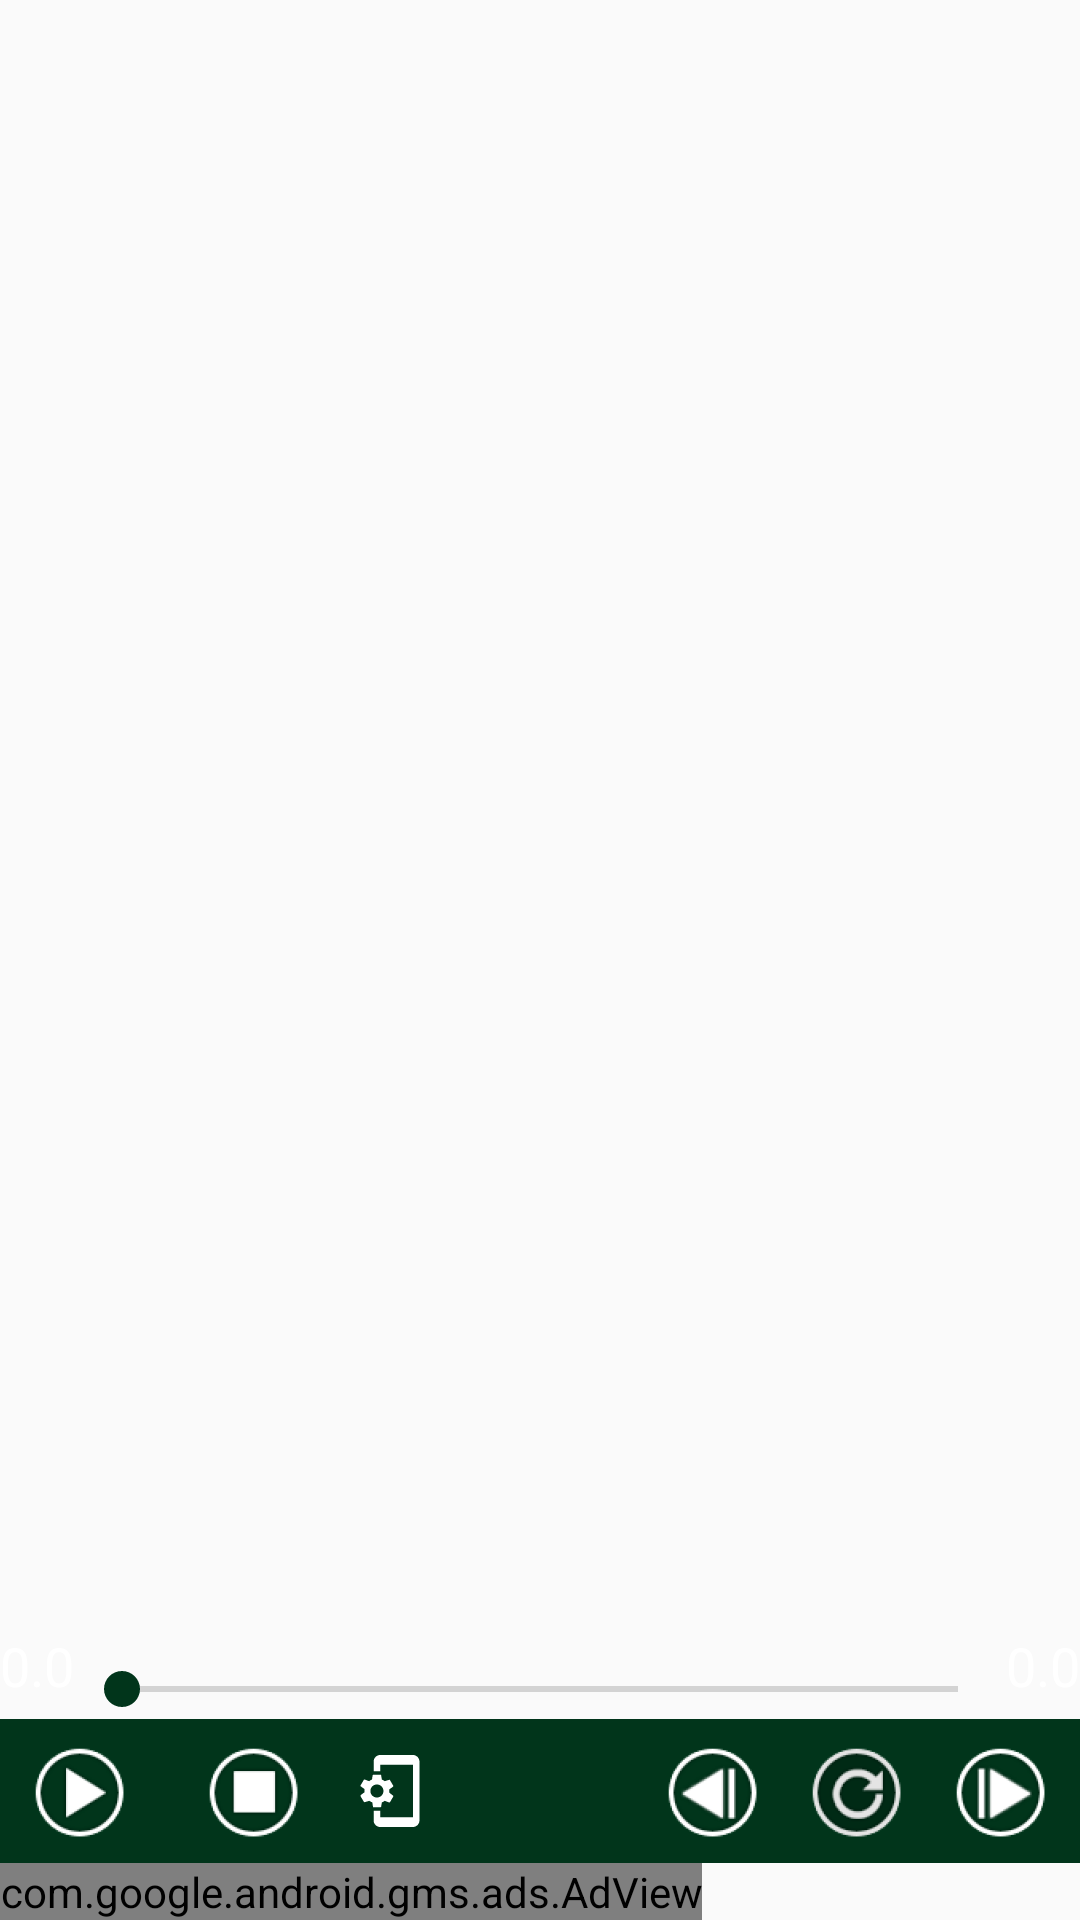

Screen size 1080*1920. Icon name, then its box in pixels as bbox(x1, y1, x2, y2):
back: bbox(668, 1748, 757, 1837)
next: bbox(956, 1748, 1045, 1837)
play: bbox(35, 1748, 124, 1837)
repeat disable: bbox(812, 1748, 901, 1837)
stop: bbox(209, 1748, 298, 1837)
